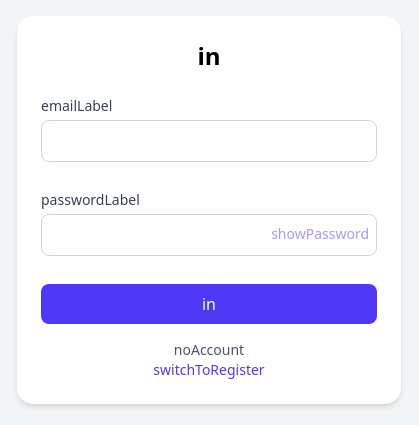
it: LoginPage › показывает ошибку если password пустой или слабый
Type "test@test.com" into the field labelled "emailLabel" at [209, 141], box [41,120,377,162]
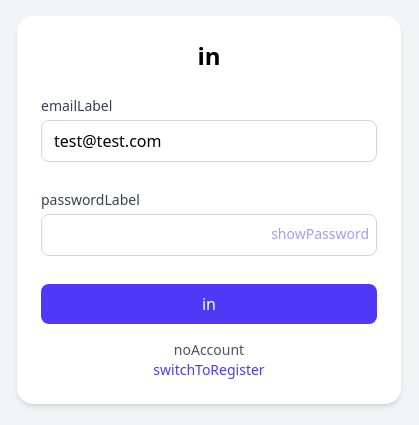
Type "123" into the password field labelled "passwordLabel" at [209, 235], box [41,214,377,256]
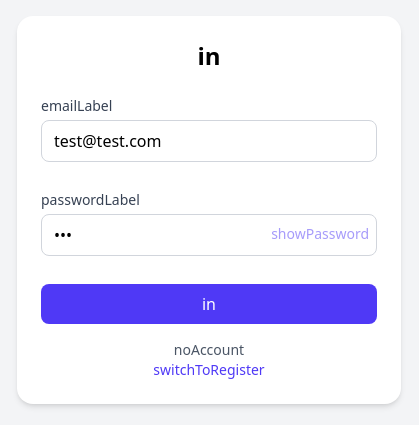
Click the button "in" at [209, 304], box [41,284,377,324]
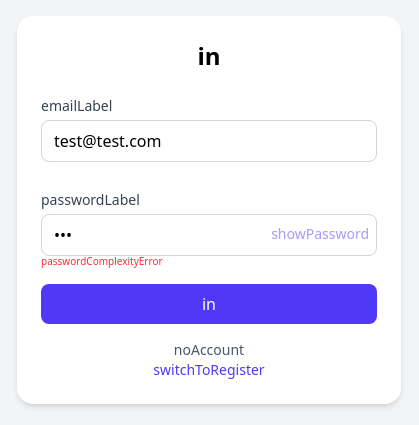
Expected: the text "passwordComplexityError" is shown, [41,254,163,269]
